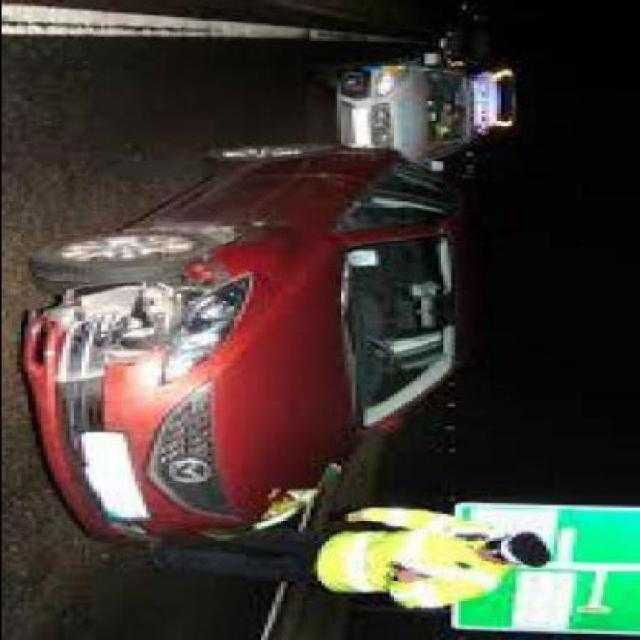damage: (22, 217, 300, 398)
